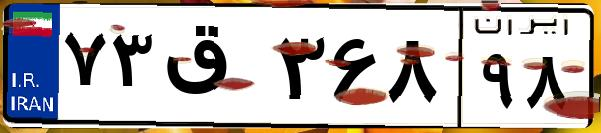3: (270, 28, 330, 110), (110, 28, 158, 98)
6: (330, 28, 385, 110)
7: (57, 26, 110, 100)
8: (385, 28, 445, 110), (525, 38, 570, 115)
9: (475, 38, 525, 113)
ق: (158, 20, 270, 120)
